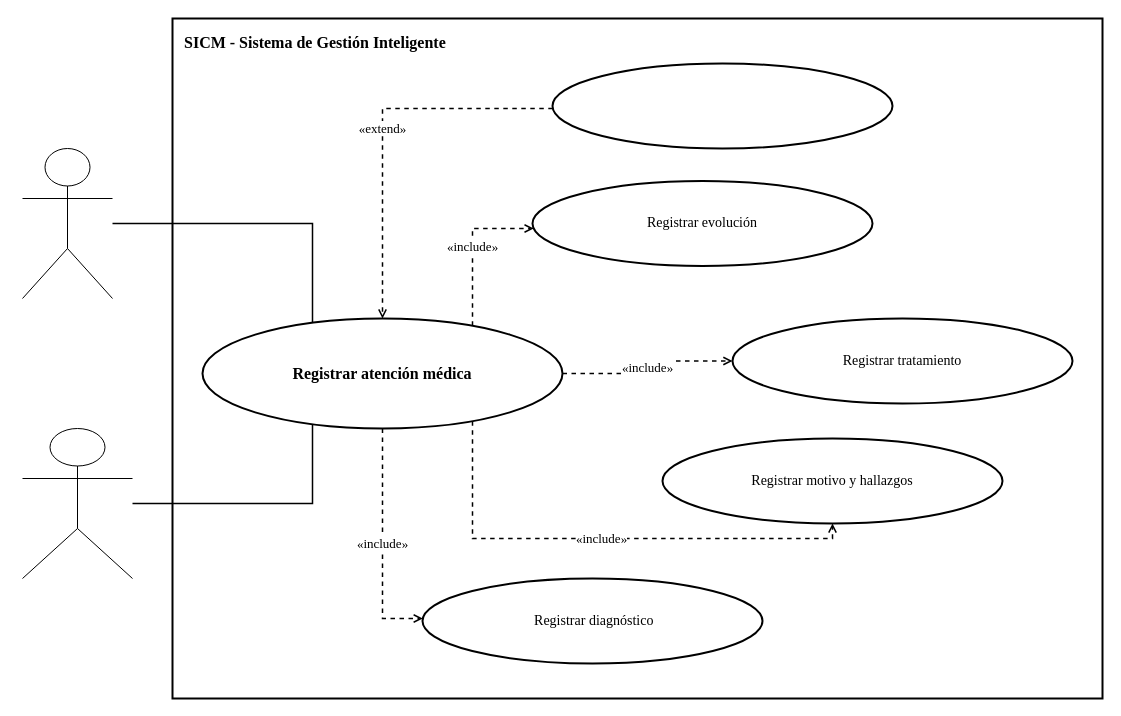
This 1121x716 diagram has some shape labels left out. Each missing label, with the centre of its shape:
Paciente: point 77,503
Personal médico: point 67,223
Registrar atención de urgencia: point 722,105
